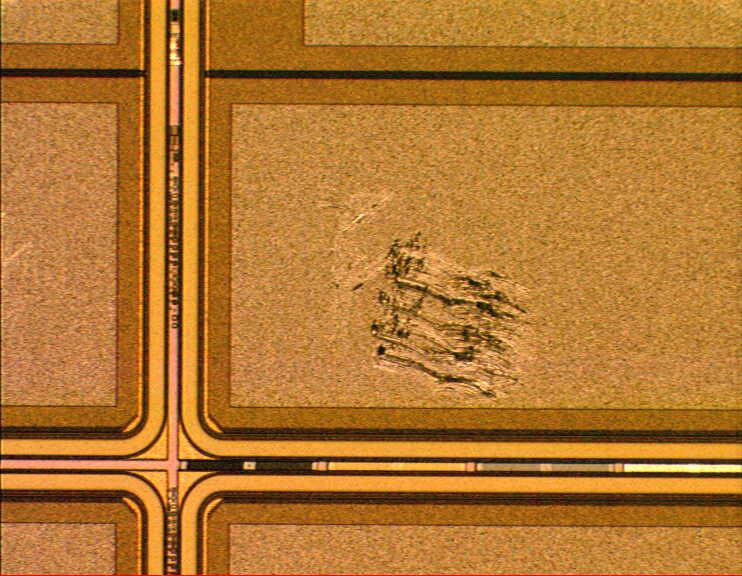SCRATCH: (323, 183, 542, 410)
